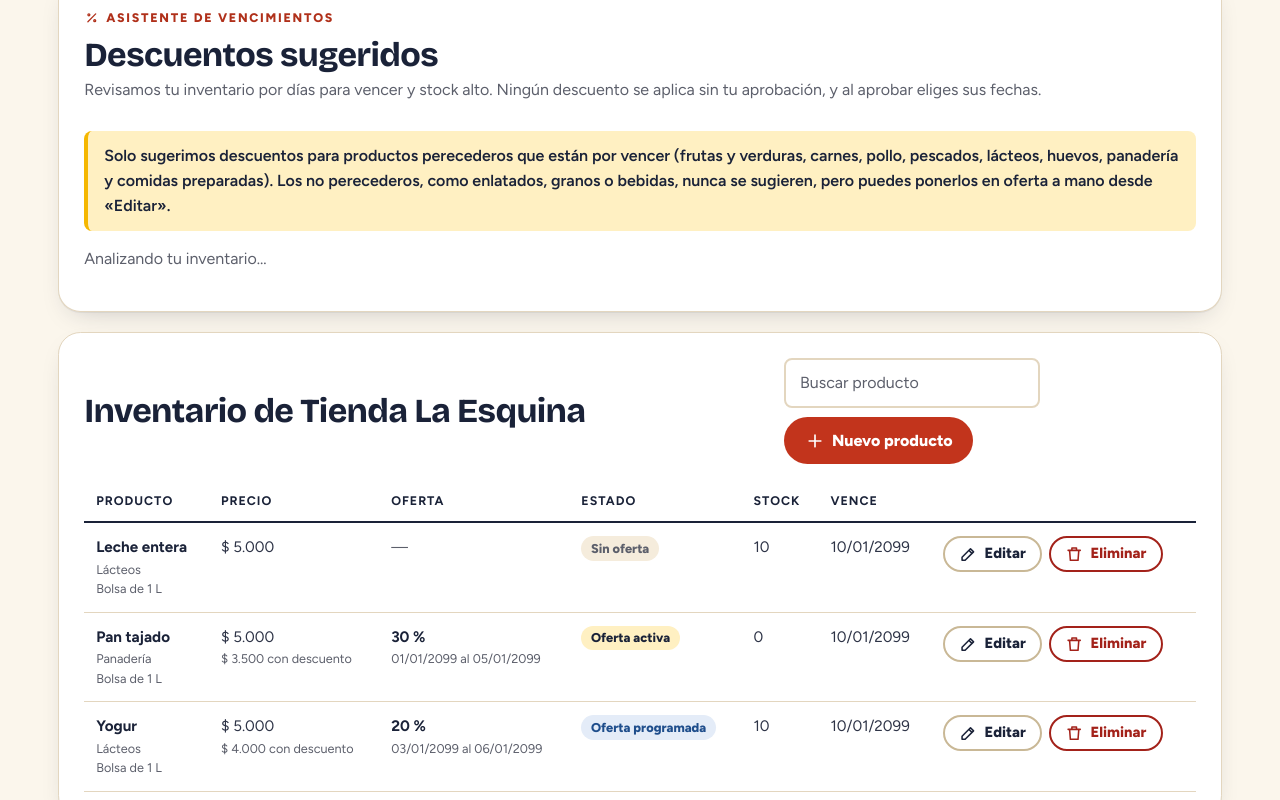
Test: AdminComponent (store panel) › opens the form for a new product in the chosen store and reloads after saving
The width and height of the screenshot is (1280, 800).
(page scrolled)
What coordinates should you click on to do the following:
click the button "Nuevo producto"
I would click on:
 (879, 441)
Its box is [784,417,973,464].
(page scrolled)
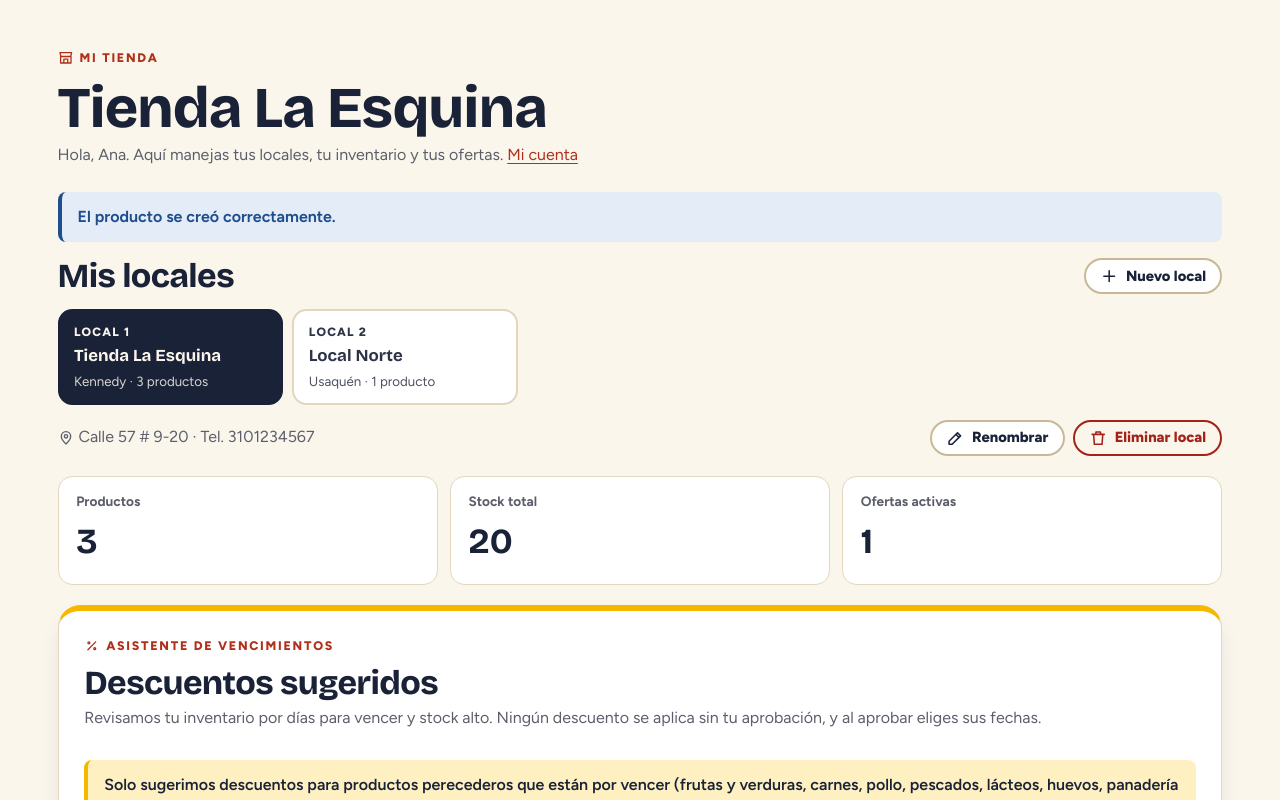
Result: the message with class "alert-success" shows "se creó" at [78,207,336,226]
